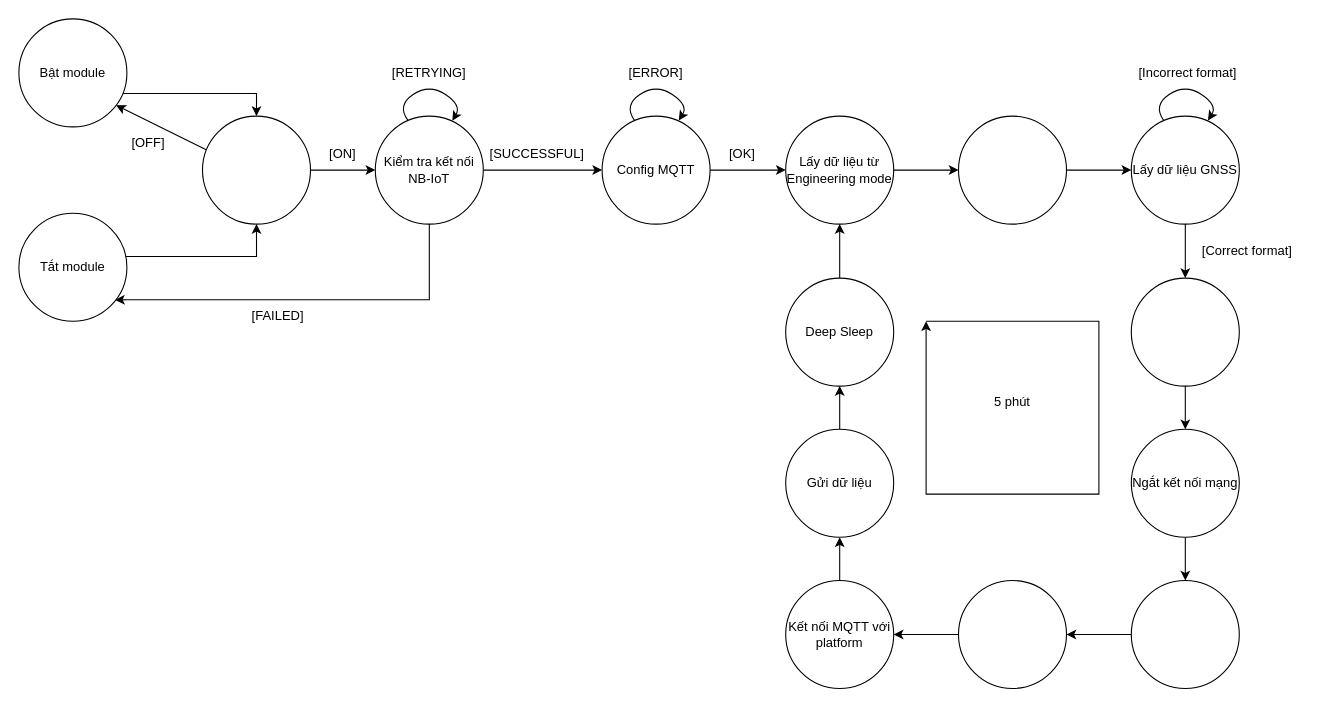
This 1318x707 diagram has some shape labels left out. The shapes that lost their labels are listed below. From the top down, each one's centre as x and y in pixels, then its label:
point 255,169: Kiểm tra trạng thái hoạt động của module
point 1011,169: Bật chức năng GNSS
point 1184,331: Tắt chức năng GNSS
point 1011,633: Ngắt kết nối MQTT
point 1184,633: Kích hoạt kết nối mạng
